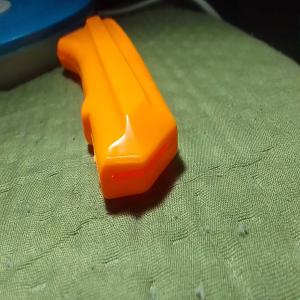estilete: (59, 12, 178, 202)
